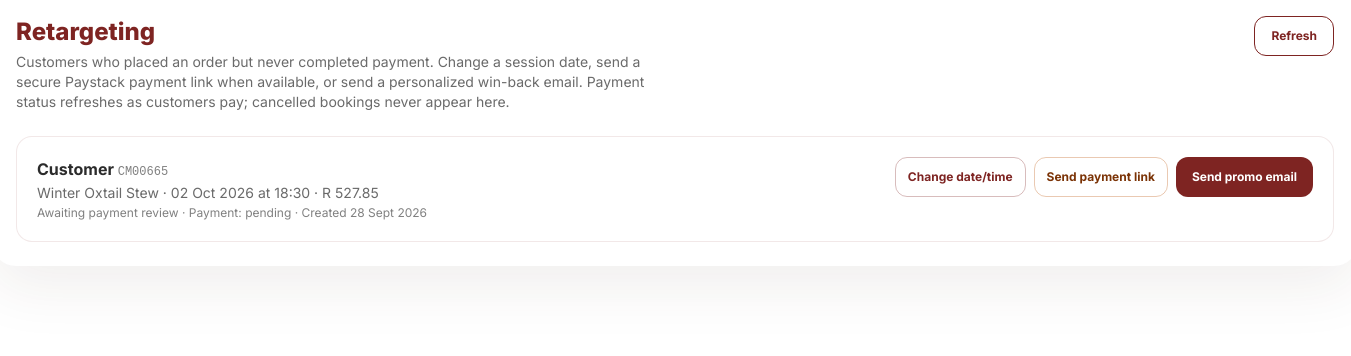
Test case: Admin Retargeting page › reschedules the session and queues a reminder with the Paystack checkout link
Step 1. Click the button "Change date/time" → (960,177), box [895,157,1026,197]
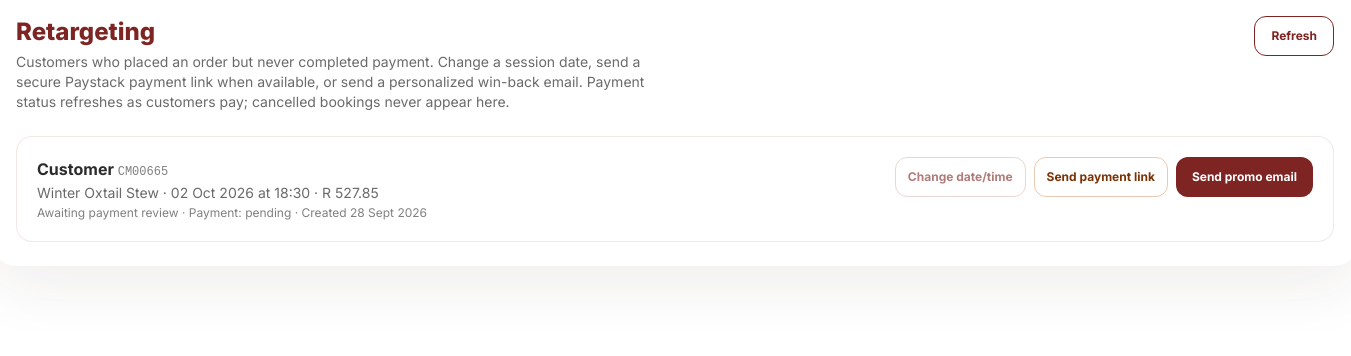
Step 2. Click the button "Send payment link" → (1101,177), box [1034,157,1168,197]
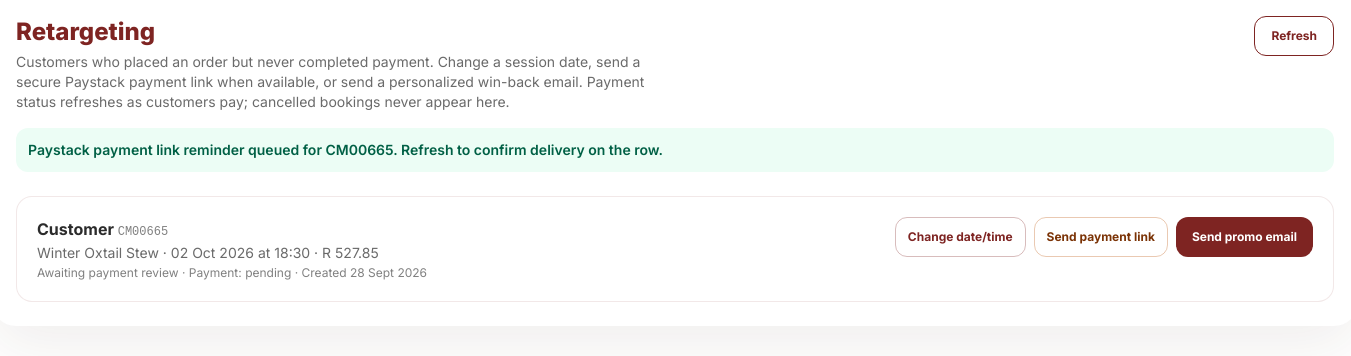
Now the text "Paystack payment link reminder queued for CM00665. Refresh to confirm delivery on the row." is shown, box [28,141,663,158]
